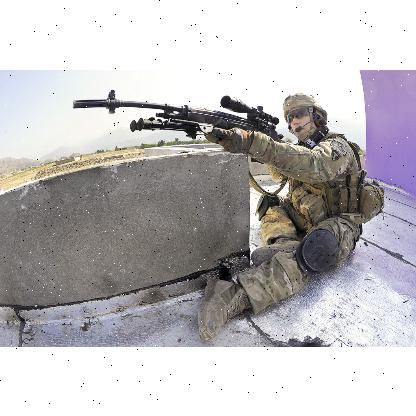gun: (72, 89, 282, 140)
